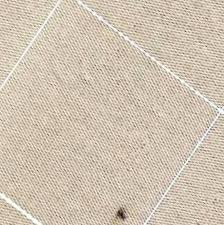stain: (106, 205, 132, 223)
